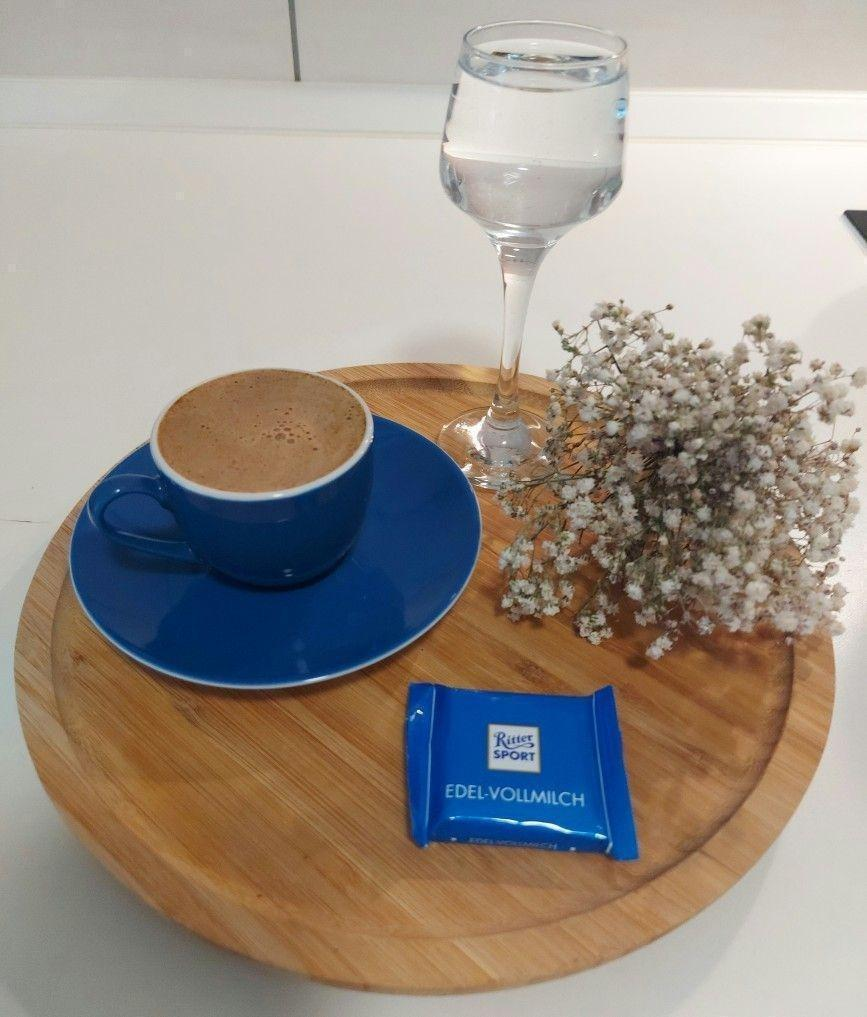cup-handle: (86, 364, 379, 592)
glass-wine: (437, 17, 633, 491)
